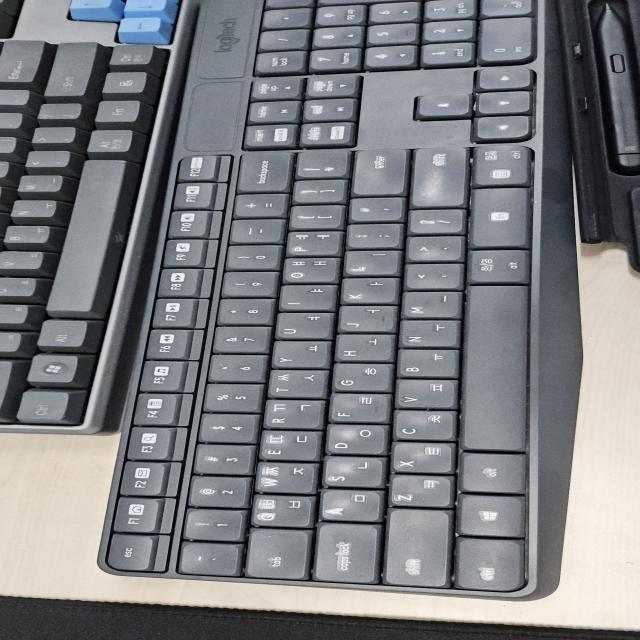Keyboard: (3, 1, 635, 606)
